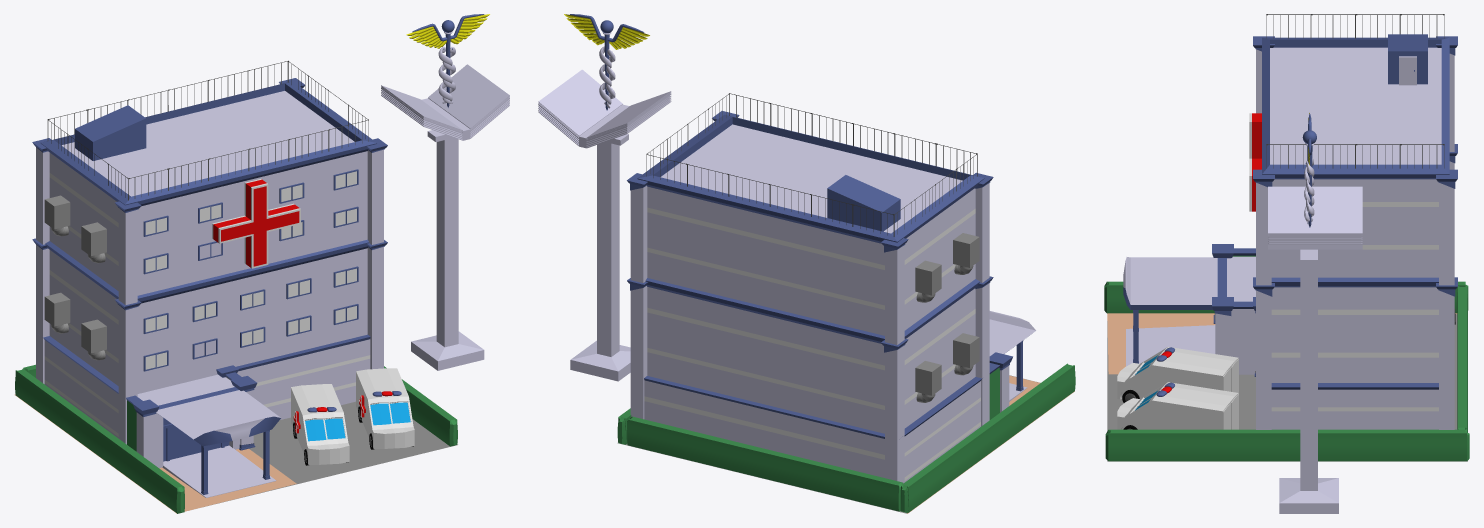
File: predioMedNvl3.fbx
3 views of the same model, side by side, from view 1: azimuth 30°, elevation 25°; view 2: azimuth 150°, elevation 25°; view 3: azimuth 270°, elevation 25° (orthographic). The views are drawn at different scales.
Visible parts, largest first — view 1: PredioMed.002; view 2: PredioMed.002; view 3: PredioMed.002.
Part boxes in pixels (x1=…): PredioMed.002: x1=14, y1=14, x2=509, y2=513; PredioMed.002: x1=538, y1=14, x2=1075, y2=513; PredioMed.002: x1=1104, y1=14, x2=1469, y2=513.
Size of the model in its own units: 5680 by 4530 by 3996.
